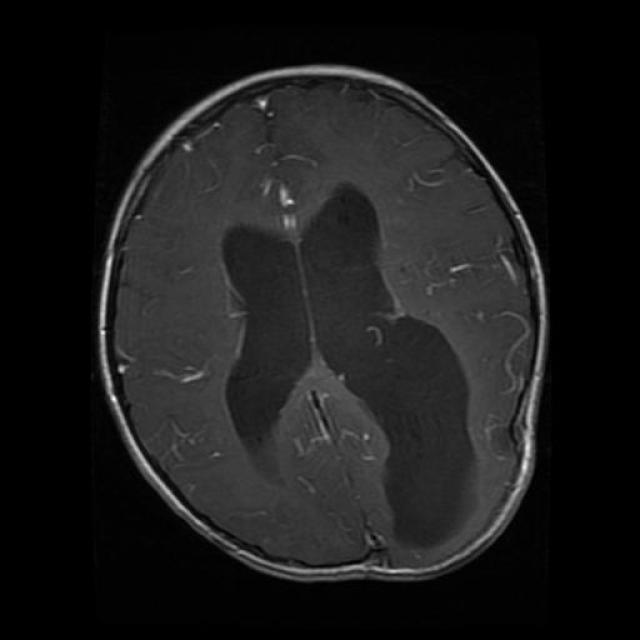glioma: (209, 192, 405, 405)
